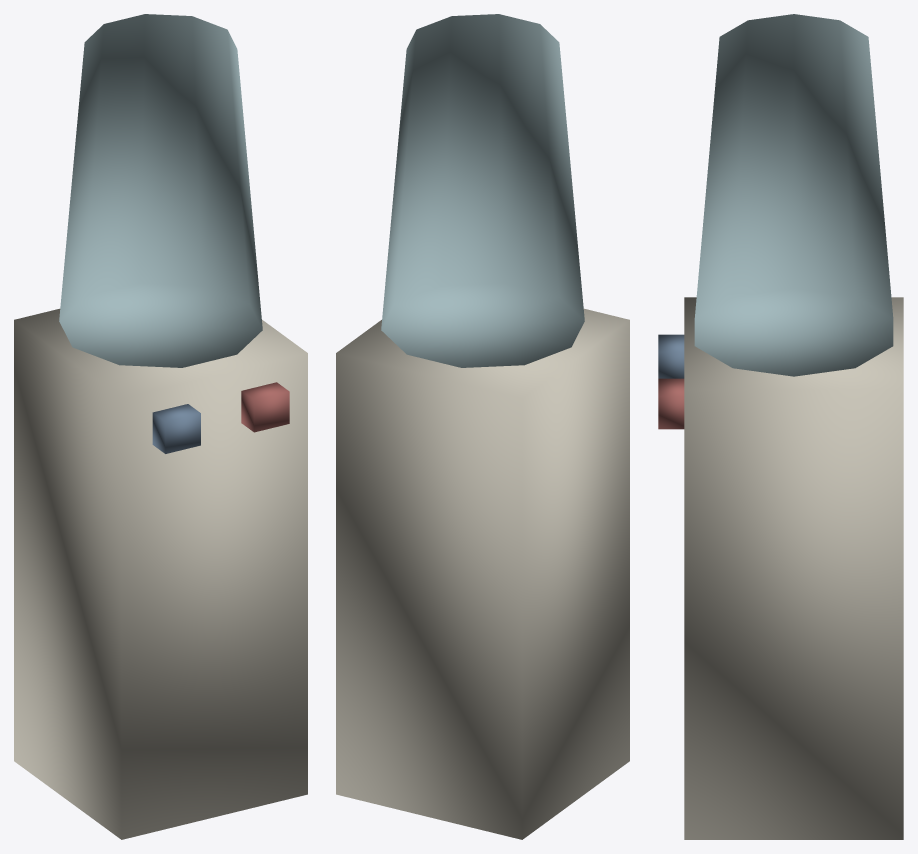
File: water_cooler__tall.glb
The picture shows the model from 3 angles, left to right: view 1: azimuth 30°, elevation 25°; view 2: azimuth 150°, elevation 25°; view 3: azimuth 270°, elevation 25°; orthographic projection.
Visible parts, largest first — view 1: world; view 2: world; view 3: world.
Boxes of the visible parts, left/top/right/bottom form: world: left=14, top=14, right=307, bottom=839; world: left=336, top=14, right=629, bottom=839; world: left=658, top=14, right=903, bottom=839.
Size of the model in its own units: 0.42 by 1.58 by 0.47.
